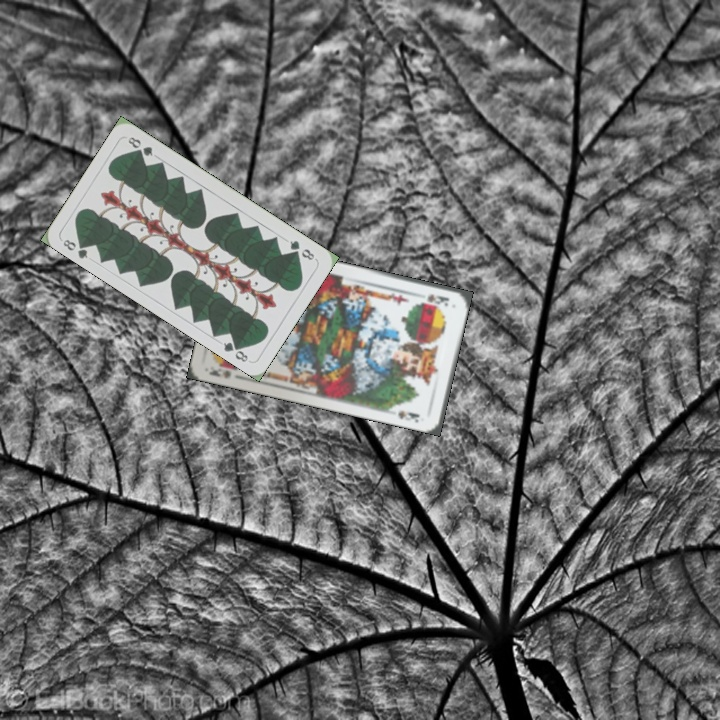G8: (286, 236, 318, 263), (59, 235, 91, 261)
SK: (423, 290, 452, 308), (205, 366, 233, 381)
